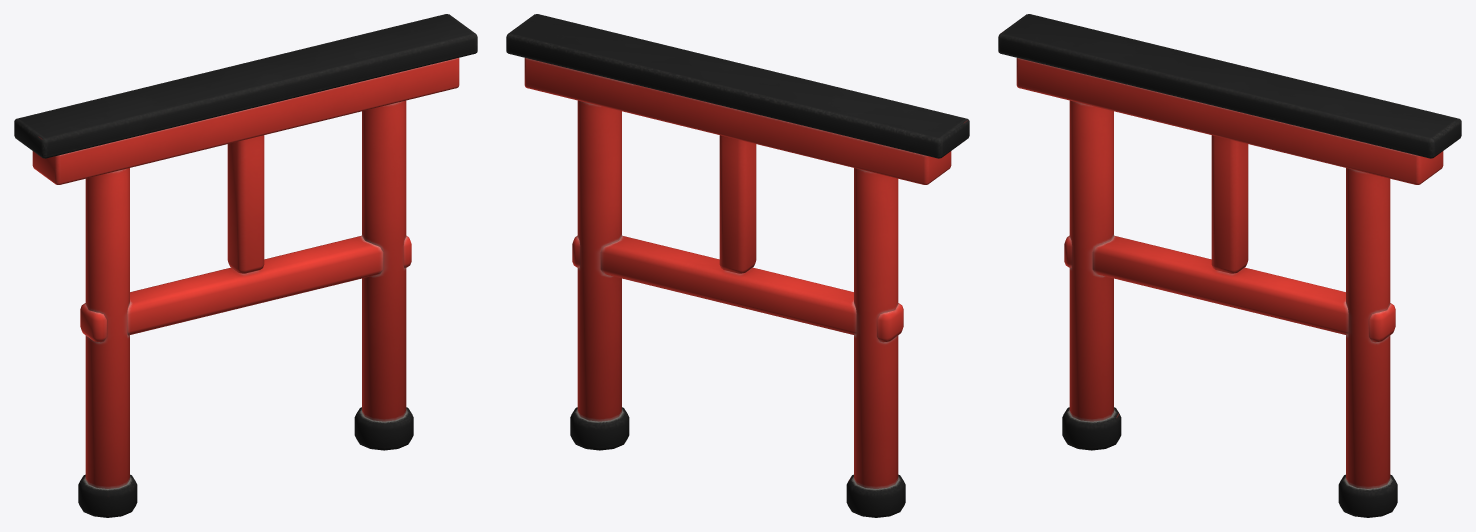
Rendered from cb_obstacle_torii.glb.
The picture shows the model from 3 angles, left to right: view 1: azimuth 30°, elevation 25°; view 2: azimuth 150°, elevation 25°; view 3: azimuth 330°, elevation 25°; orthographic projection.
Visible parts, largest first — view 1: cb_obstacle_torii; view 2: cb_obstacle_torii; view 3: cb_obstacle_torii.
Part boxes in pixels (x1,y1,x2,y2): cb_obstacle_torii: (14, 14, 477, 517); cb_obstacle_torii: (506, 14, 969, 517); cb_obstacle_torii: (998, 14, 1461, 517).
Bounding box in the file's own units: 4.1 × 3.57 × 0.5.
Materials: 2 (2 with a texture image).
